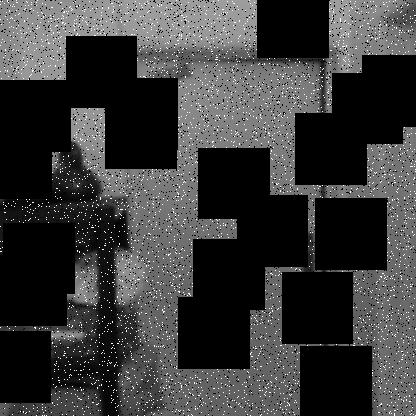Porte: (115, 34, 352, 416)
